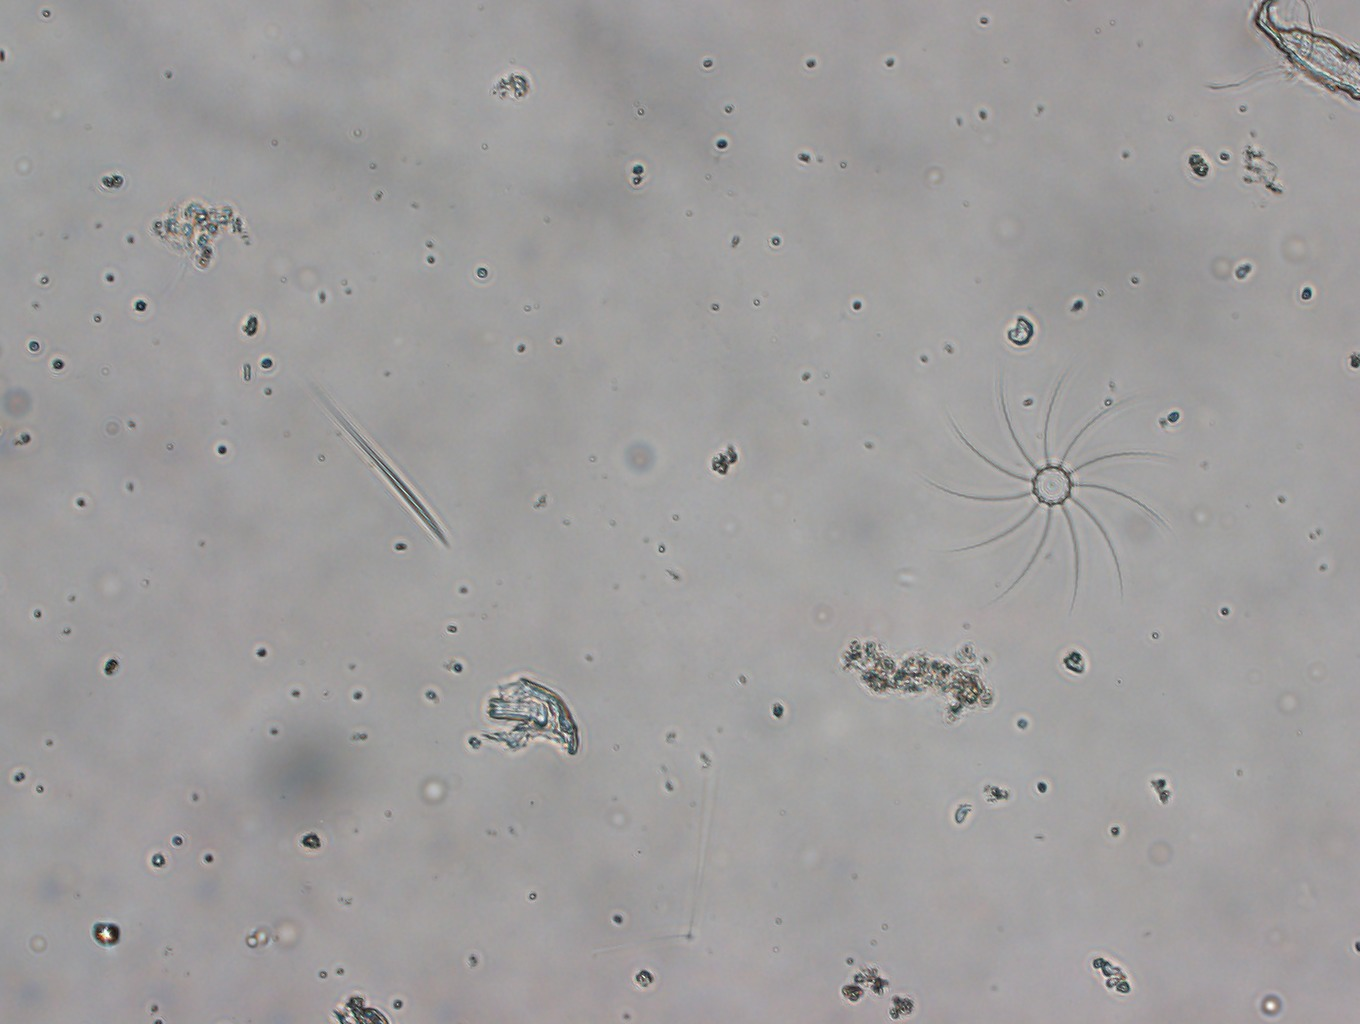bacteriastrum: (920, 368, 1173, 616)
